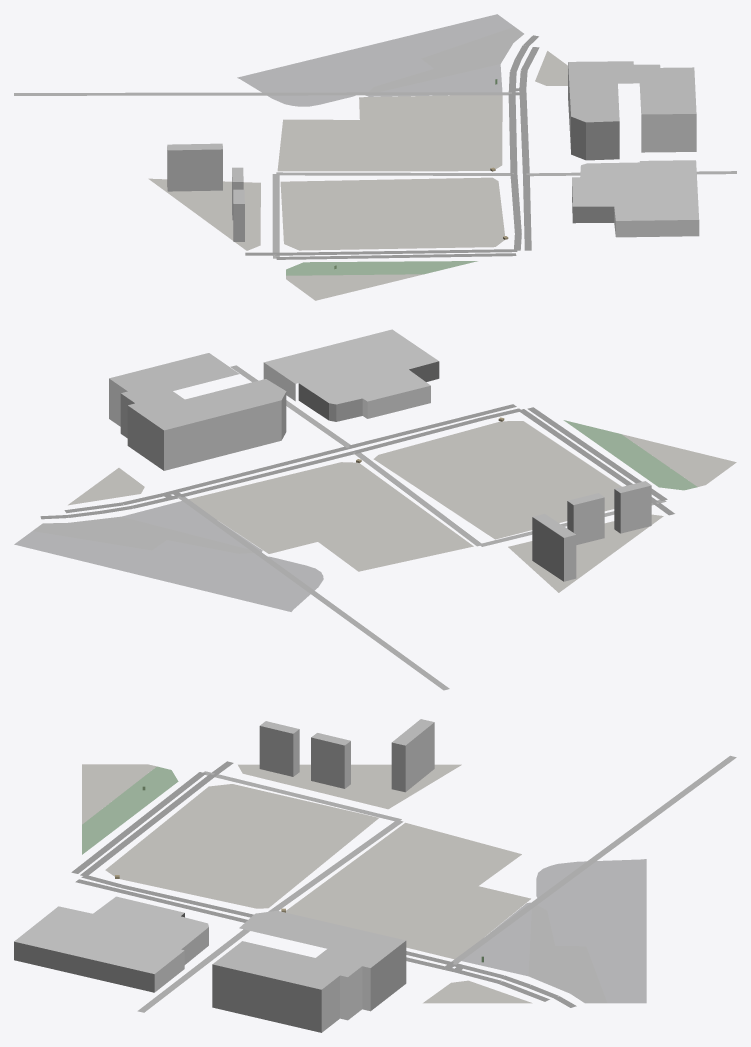
3 views of the same model, one above another, from view 1: azimuth 30°, elevation 25°; view 2: azimuth 150°, elevation 25°; view 3: azimuth 270°, elevation 25° (orthographic). The views are drawn at different scales.
Bounding box in the file's own units: 581 × 45.8 × 640.
